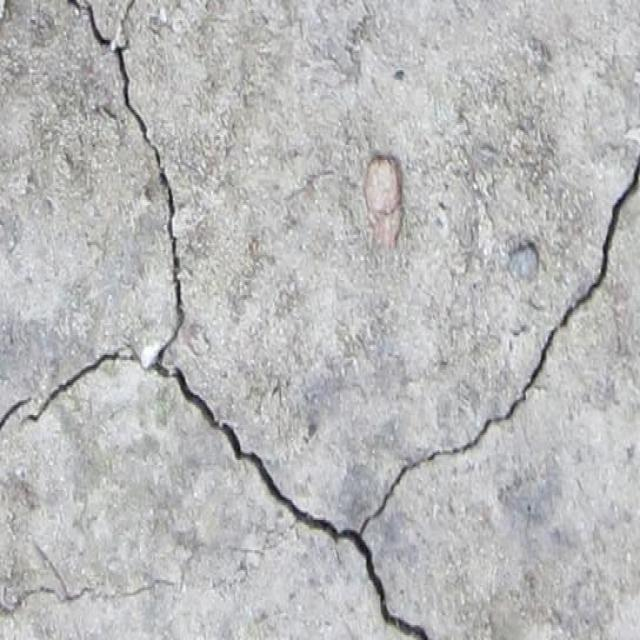crack: (1, 2, 638, 638)
